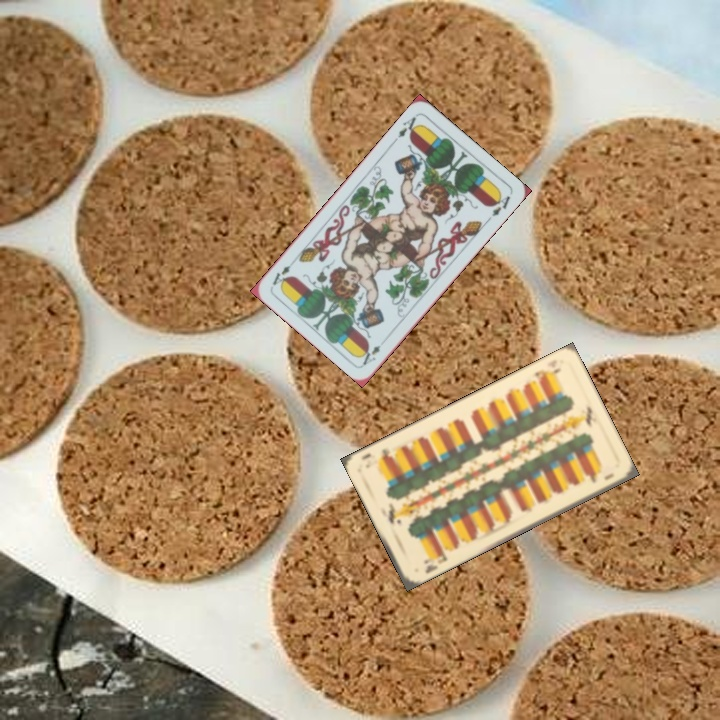E10: (419, 546, 450, 576), (530, 364, 564, 384)
EA: (394, 111, 422, 140), (358, 341, 383, 368)
